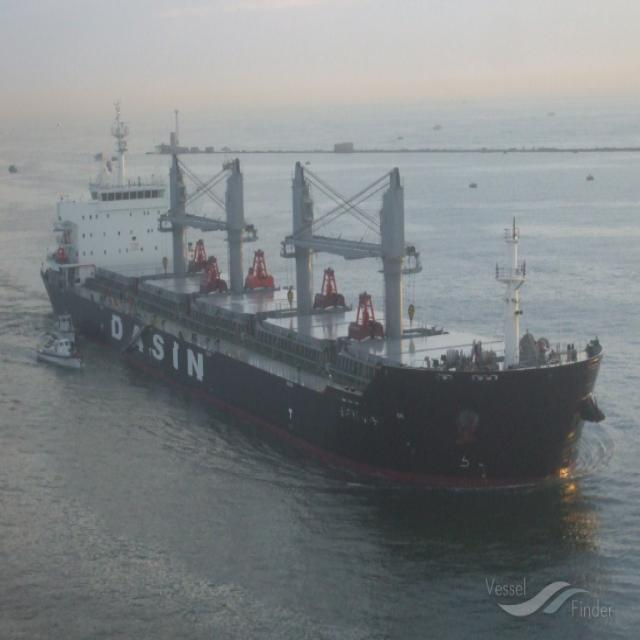OCR: (109, 306, 217, 387)
